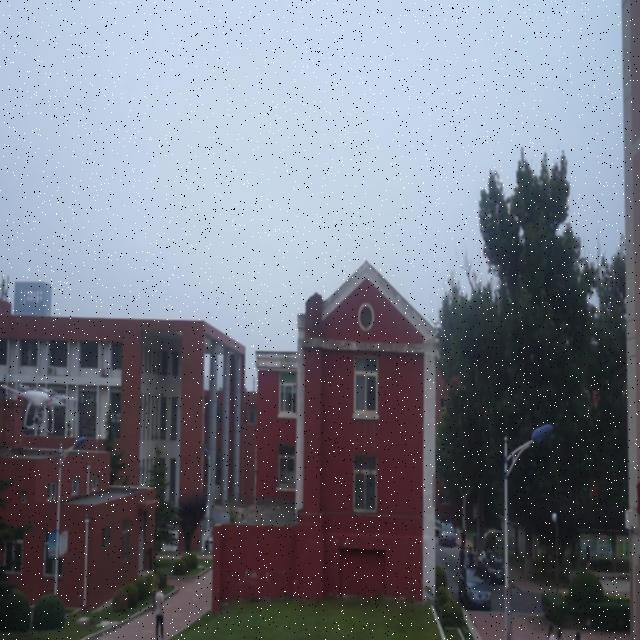UAV: (2, 383, 78, 433)
